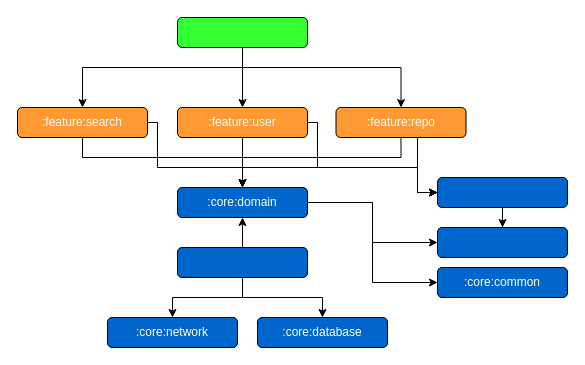
The diagram is 585 pixels wide and 365 high, and some of its shapes have lost their labels. The centre of each missing label's shape, as x and y in pixels:
:core:data: the point at 242,262
:core:model: the point at 502,242
:core:ui: the point at 502,192
app: the point at 242,32
